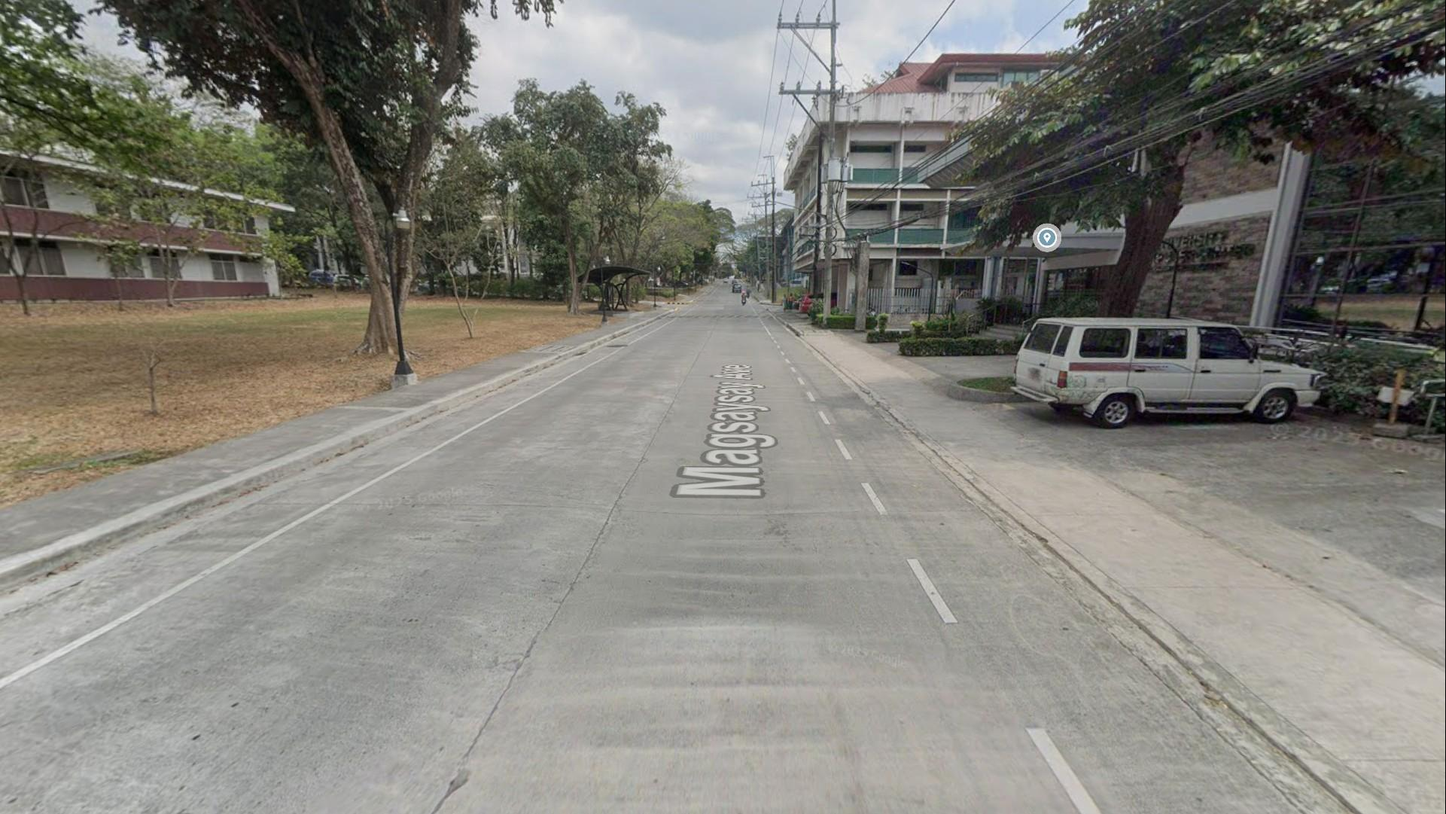pedestrian: (787, 292, 795, 311), (781, 293, 788, 312)
